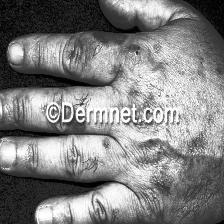Benign Marking or Mole: (132, 135, 215, 204), (92, 31, 172, 87), (197, 54, 224, 103), (99, 135, 124, 159)
